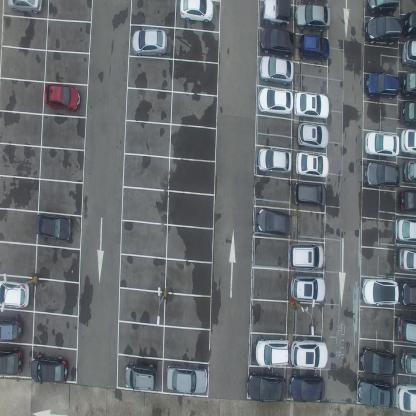car: (166, 363, 208, 395), (246, 371, 287, 402), (357, 377, 398, 408), (259, 25, 297, 56), (290, 337, 328, 368), (360, 278, 399, 308), (361, 345, 397, 377), (30, 353, 68, 383), (34, 213, 73, 242), (43, 82, 80, 112), (256, 207, 293, 237), (362, 159, 400, 188), (258, 86, 294, 116), (366, 16, 402, 46), (289, 372, 325, 402), (288, 241, 324, 271), (364, 69, 400, 98), (254, 337, 290, 366), (290, 274, 326, 303), (259, 55, 294, 84), (293, 179, 328, 208), (294, 90, 330, 118), (131, 29, 167, 57), (363, 129, 399, 156), (124, 361, 157, 390), (295, 4, 330, 31), (296, 122, 329, 150), (298, 31, 329, 60), (258, 147, 292, 173), (295, 152, 329, 178), (0, 279, 30, 308), (260, 0, 293, 26), (179, 0, 214, 23), (0, 346, 24, 375), (0, 315, 23, 343), (396, 312, 416, 344), (394, 216, 416, 244), (396, 382, 416, 412), (6, 0, 43, 15), (365, 0, 400, 15), (398, 246, 416, 274), (400, 98, 416, 128), (400, 346, 416, 376), (400, 280, 416, 309), (400, 126, 416, 155), (401, 38, 416, 68), (402, 70, 416, 98), (399, 188, 415, 211), (404, 10, 416, 39), (403, 158, 415, 184)
